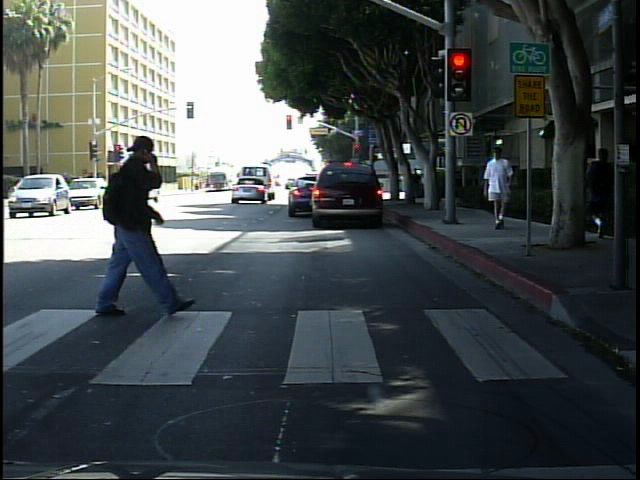person: (75, 126, 187, 340), (480, 145, 519, 238), (587, 137, 620, 246)
